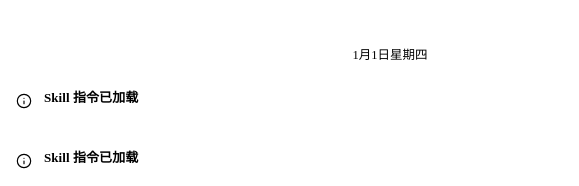
it: MessageTimeline › steps through hits across messages and keeps the counter in sync
Press f
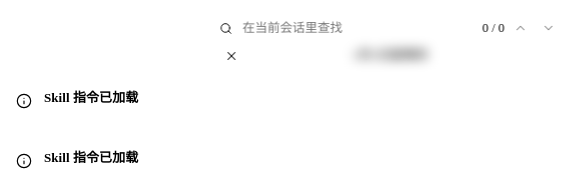
Type "needle" into the field named "查找关键词" at (334,28), box 236,16 -> 432,40
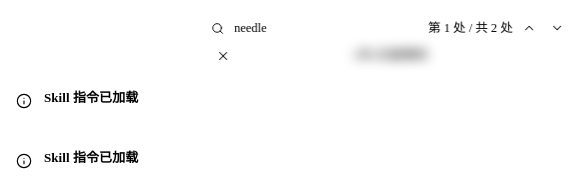
Expected: the text "第 1 处 / 共 2 处" is shown, 428,20 -> 513,36
Press Enter in the field named "查找关键词", box 228,16 -> 424,40
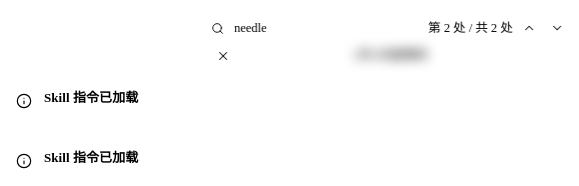
Expected: the text "第 2 处 / 共 2 处" is shown, 428,20 -> 513,36
Press Enter in the field named "查找关键词", box 228,16 -> 424,40
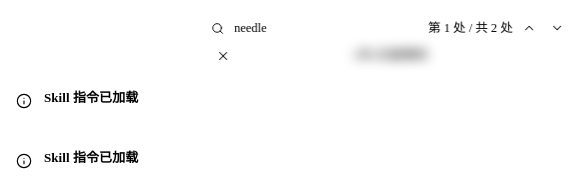
Expected: the text "第 1 处 / 共 2 处" is shown, 428,20 -> 513,36
